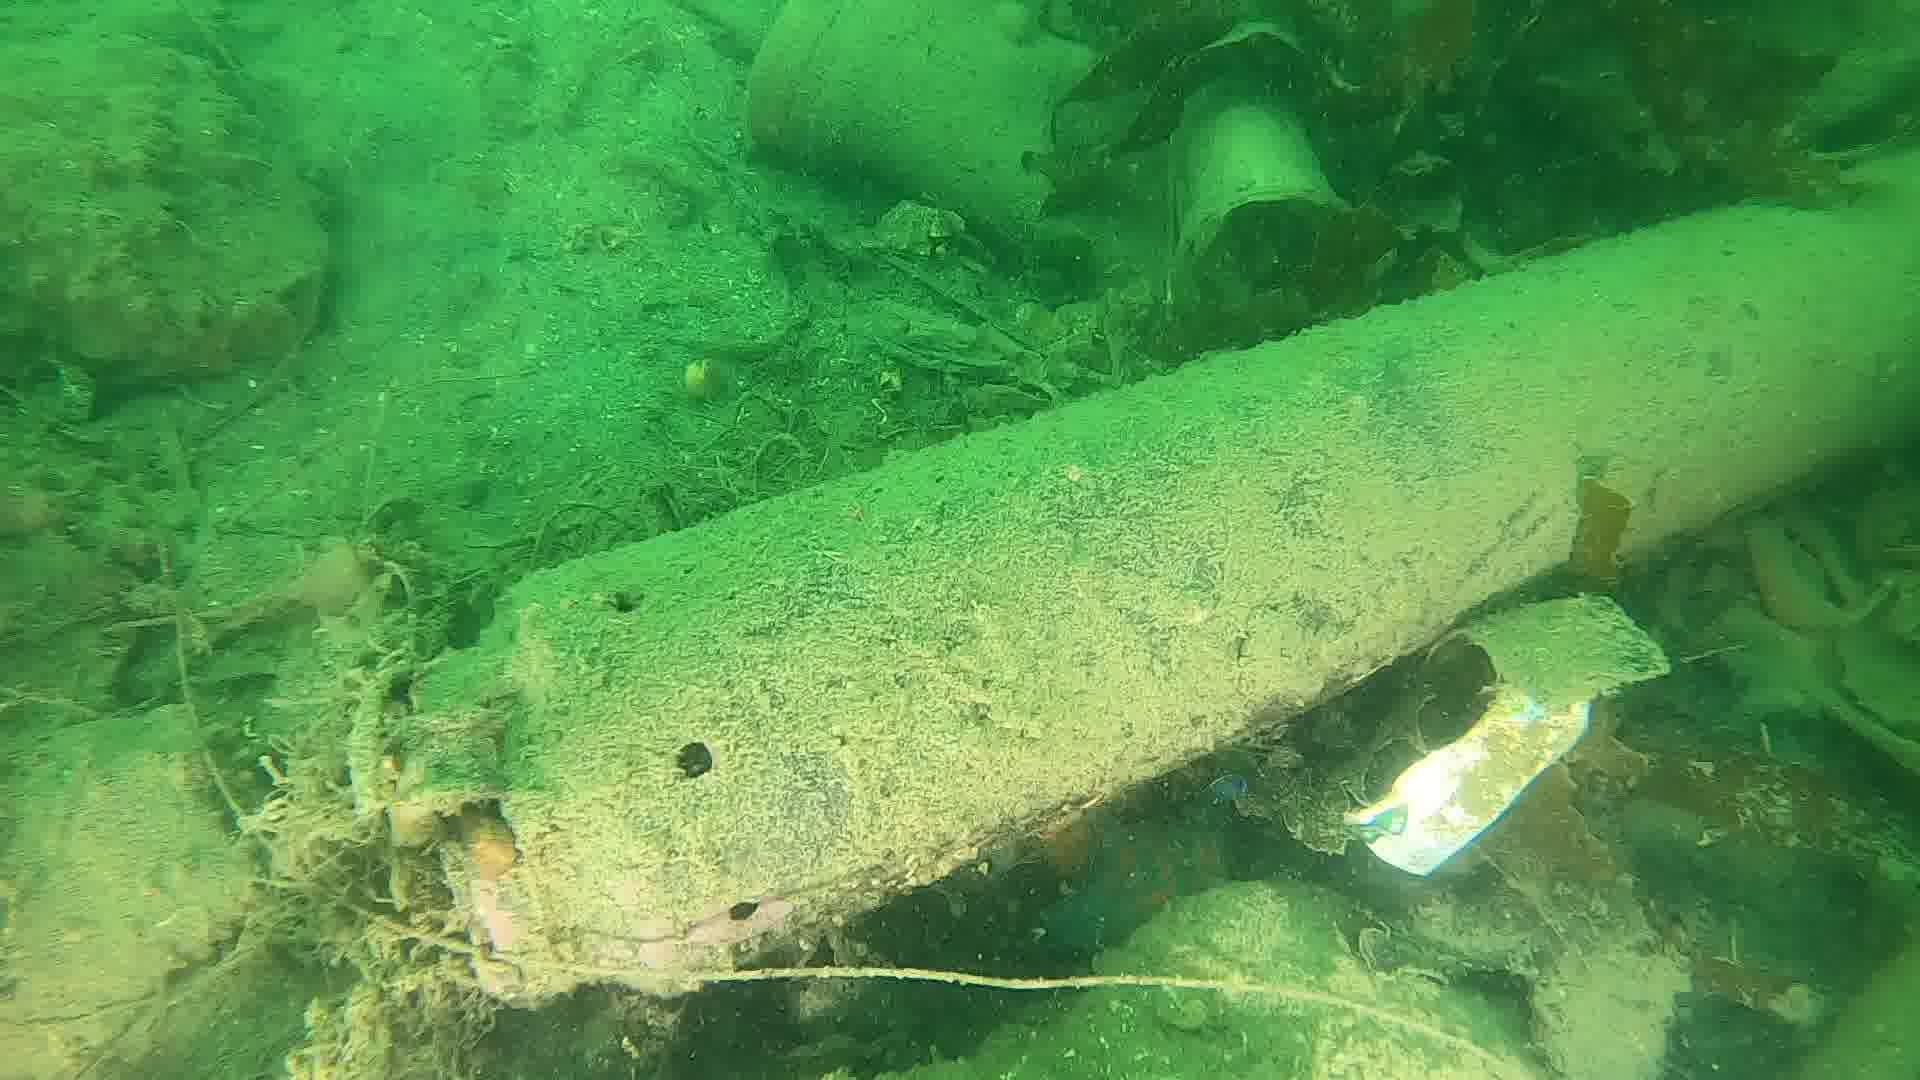eel fish trap: (406, 152, 1920, 1004)
